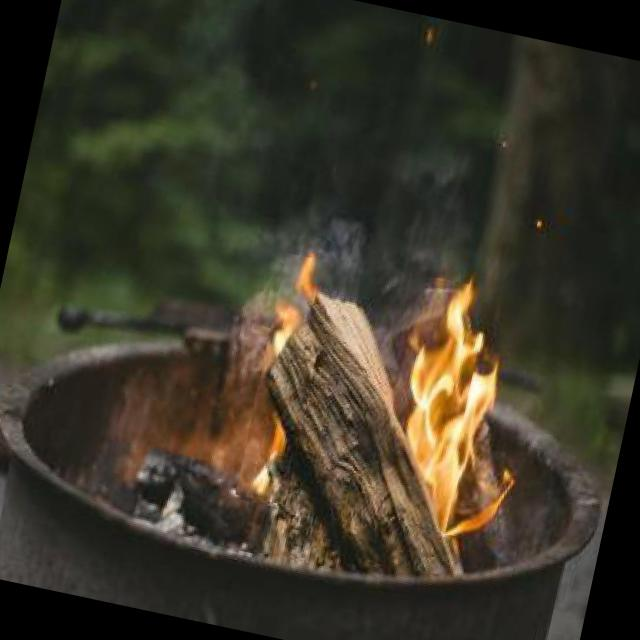fire: (369, 274, 541, 543), (235, 252, 336, 504)
